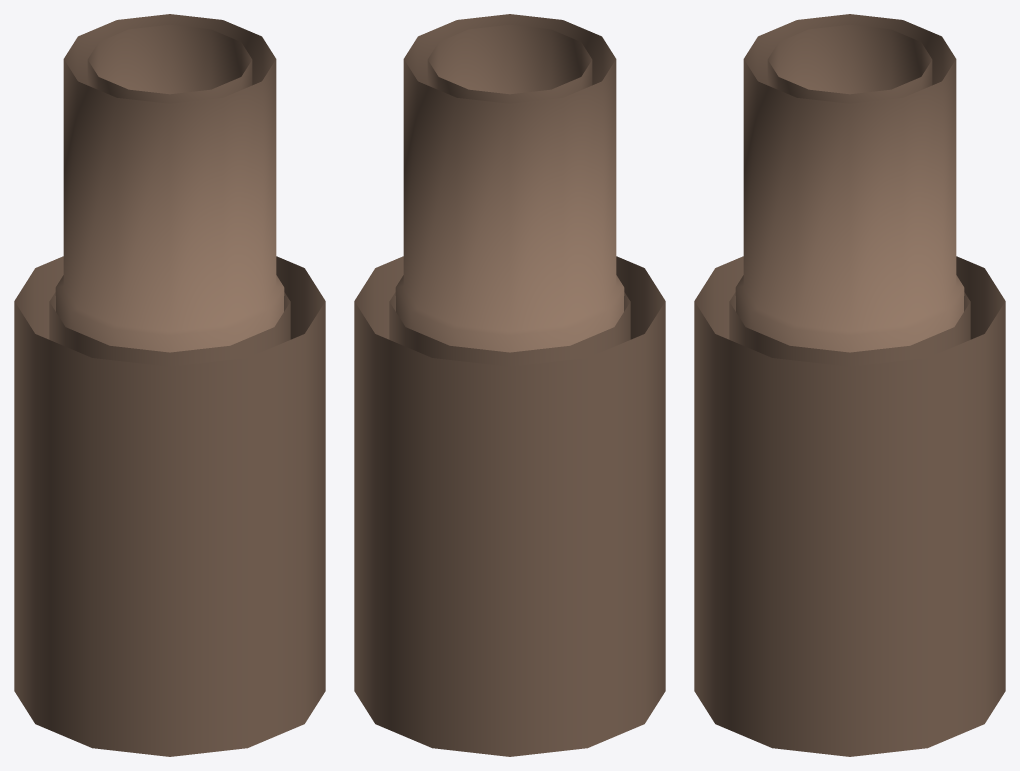
The model's file is cafetera.fbx.
The picture shows the model from 3 angles, left to right: view 1: azimuth 30°, elevation 25°; view 2: azimuth 150°, elevation 25°; view 3: azimuth 270°, elevation 25°; orthographic projection.
Visible parts, largest first — view 1: cafetera; view 2: cafetera; view 3: cafetera.
Part boxes in pixels (box(x1,y1,x2,y2)): cafetera: box(14, 14, 325, 756); cafetera: box(354, 14, 665, 756); cafetera: box(694, 14, 1005, 756).
Bounding box in the file's own units: 15.88 × 35.68 × 15.88.
